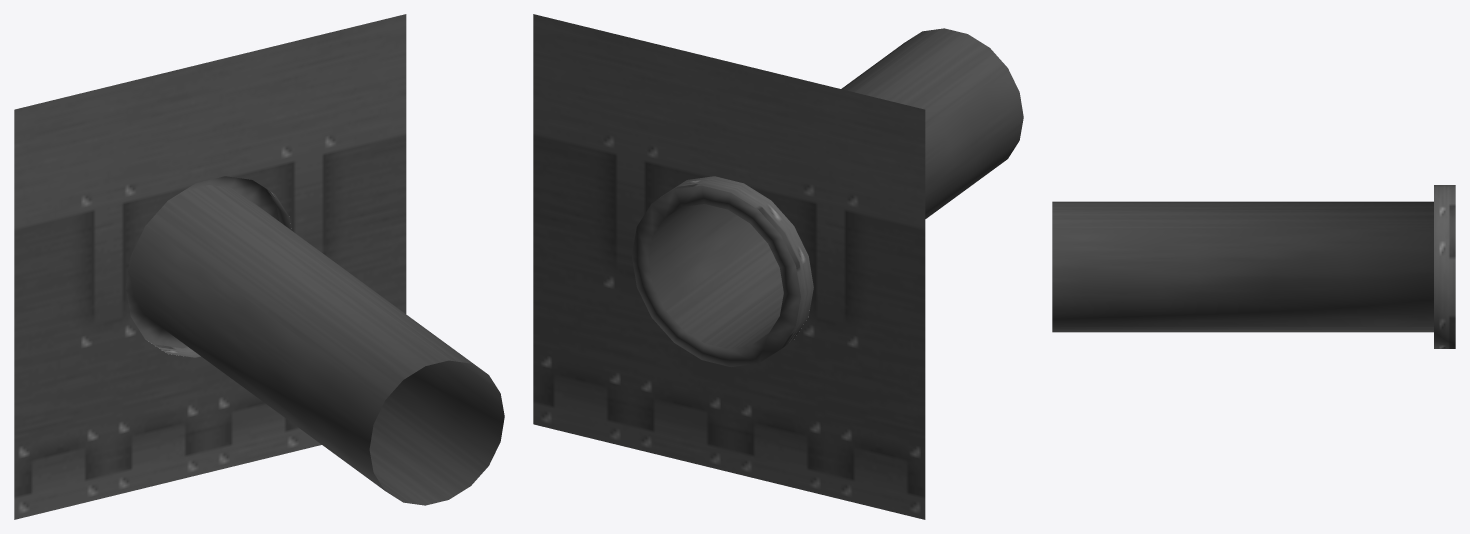
File: Plane_WindowFULL.FBX
3 views of the same model, side by side, from view 1: azimuth 30°, elevation 25°; view 2: azimuth 150°, elevation 25°; view 3: azimuth 270°, elevation 25° (orthographic). The views are drawn at different scales.
Parts seen in each view (by area): view 1: Wall, Porthole; view 2: Wall, Porthole; view 3: Porthole.
Part boxes in pixels (bbox=[...]): Wall: bbox=[14, 14, 406, 519]; Porthole: bbox=[125, 176, 504, 505]; Wall: bbox=[533, 14, 925, 519]; Porthole: bbox=[631, 28, 1023, 367]; Porthole: bbox=[1052, 185, 1455, 348].
Bounding box in the file's own units: 1 × 1 × 1.06.
